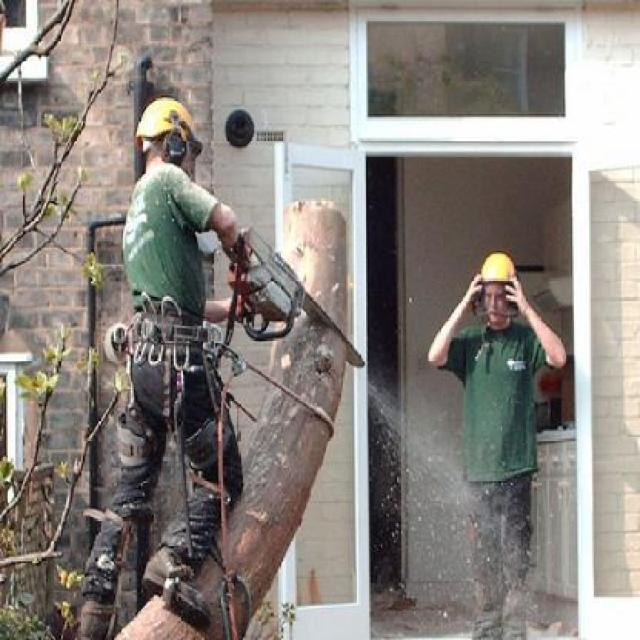Chainsaw: (210, 227, 364, 385)
